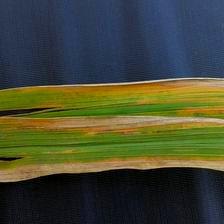2 BacterialBlight: (6, 79, 223, 174)
